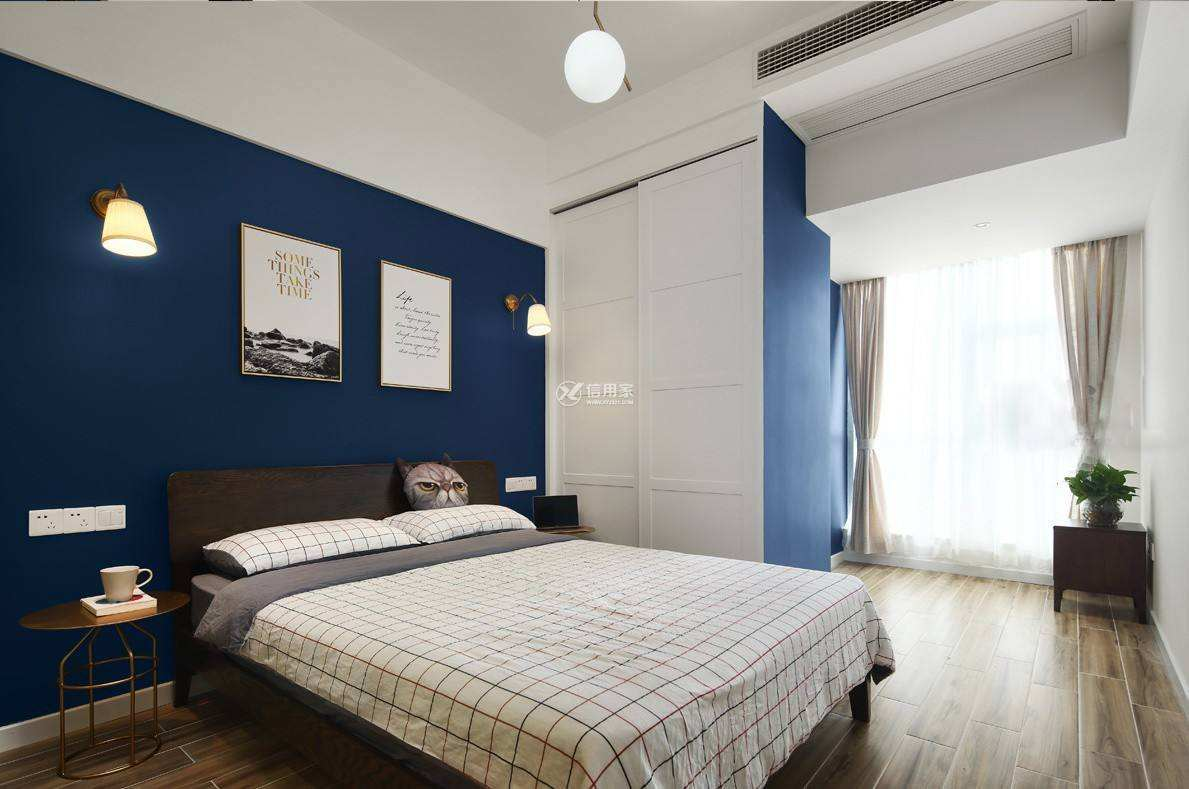床: (170, 521, 899, 787)
枕头: (185, 497, 581, 574)
灯: (558, 13, 631, 114), (82, 178, 151, 269), (504, 283, 556, 344)
